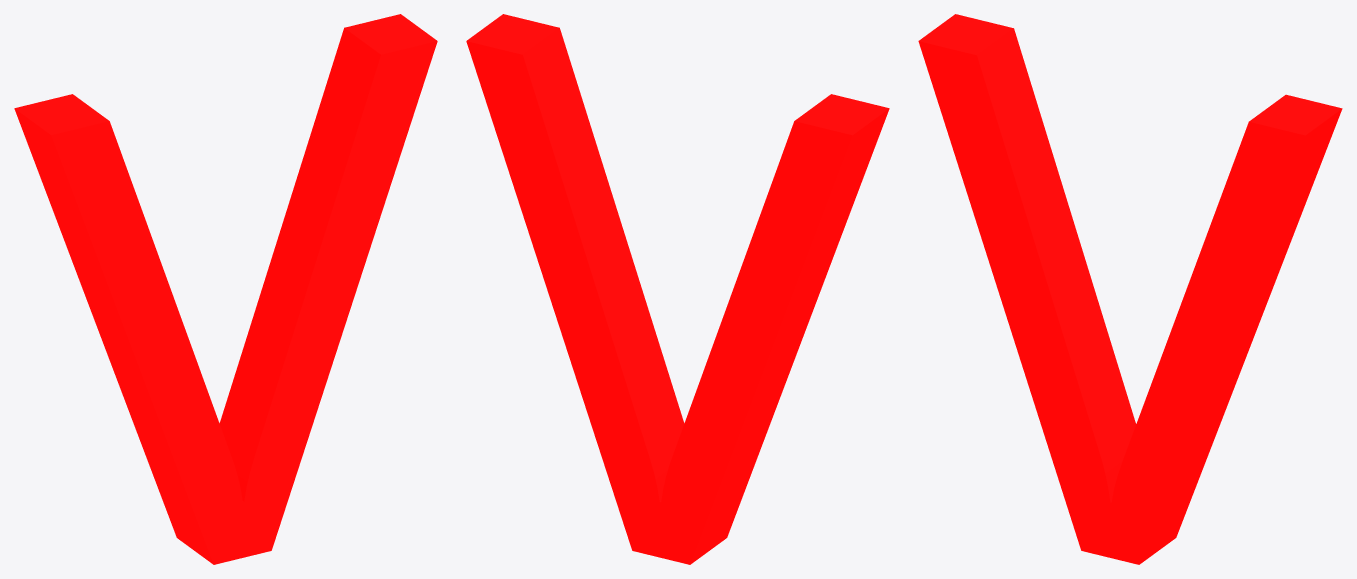
3 renders of one model, left to right at view 1: azimuth 30°, elevation 25°; view 2: azimuth 150°, elevation 25°; view 3: azimuth 330°, elevation 25°, orthographic.
Parts seen in each view (by area): view 1: MoText_1; view 2: MoText_1; view 3: MoText_1.
Part boxes in pixels (x1=…): MoText_1: x1=14, y1=14, x2=437, y2=564; MoText_1: x1=466, y1=14, x2=889, y2=564; MoText_1: x1=918, y1=14, x2=1342, y2=564.
Bounding box in the file's own units: 121 × 140 × 20.
